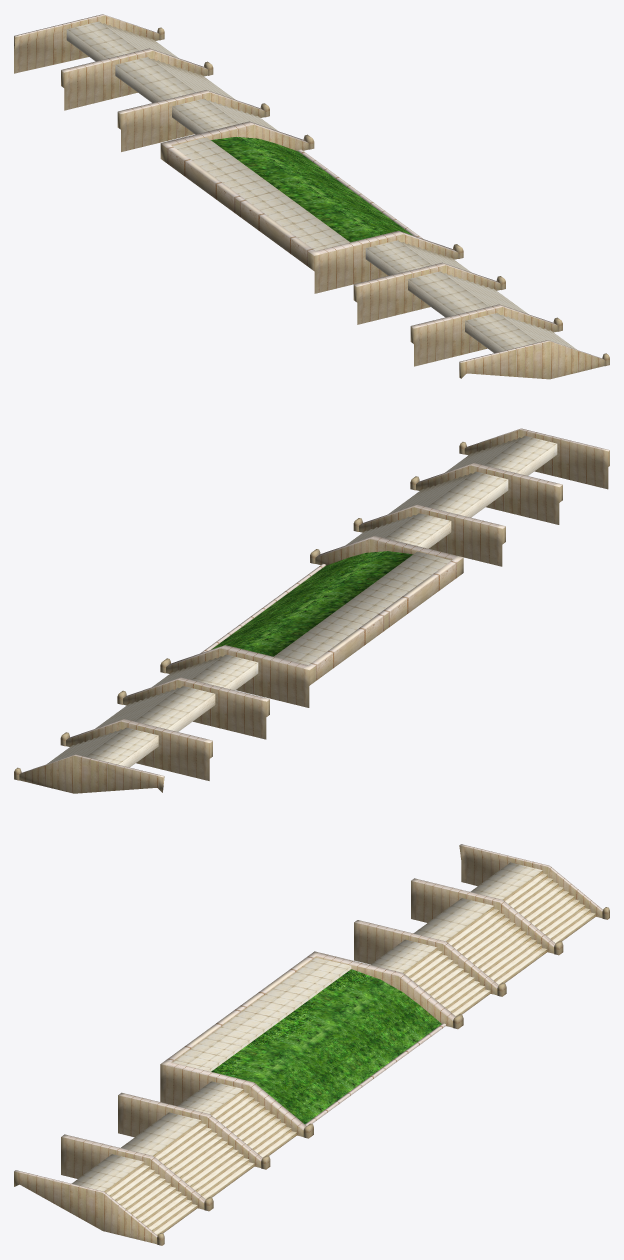
Rendered from a_SBstand01L.glb.
The picture shows the model from 3 angles, top to bottom: view 1: azimuth 30°, elevation 25°; view 2: azimuth 150°, elevation 25°; view 3: azimuth 330°, elevation 25°; orthographic projection.
Visible parts, largest first — view 1: a_SBstand01L; view 2: a_SBstand01L; view 3: a_SBstand01L.
Boxes of the visible parts, x1=… form: a_SBstand01L: x1=14, y1=14, x2=609, y2=379; a_SBstand01L: x1=14, y1=428, x2=609, y2=793; a_SBstand01L: x1=14, y1=844, x2=609, y2=1245.
Bounding box in the file's own units: 9.08 × 2.23 × 47.44.
Materials: 3 (3 with a texture image).
